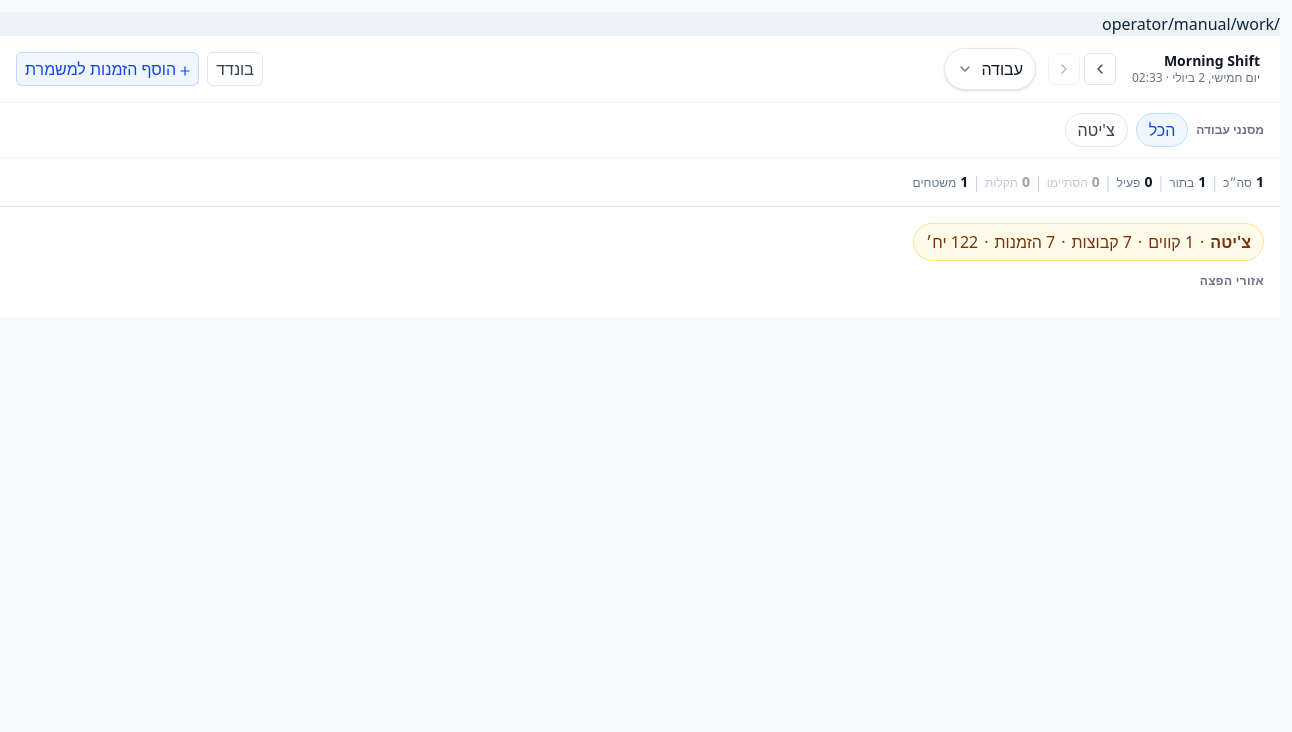
it: ManualOperatorPage URL sections › scopes Chita bucket products by sourceZone instead of the empty line scope
What coordinates should you click on to do the following:
click the button with test id "special-area-chip-צ'יטה"
I would click on:
 (1089, 242)
Its box is [913, 223, 1264, 261].
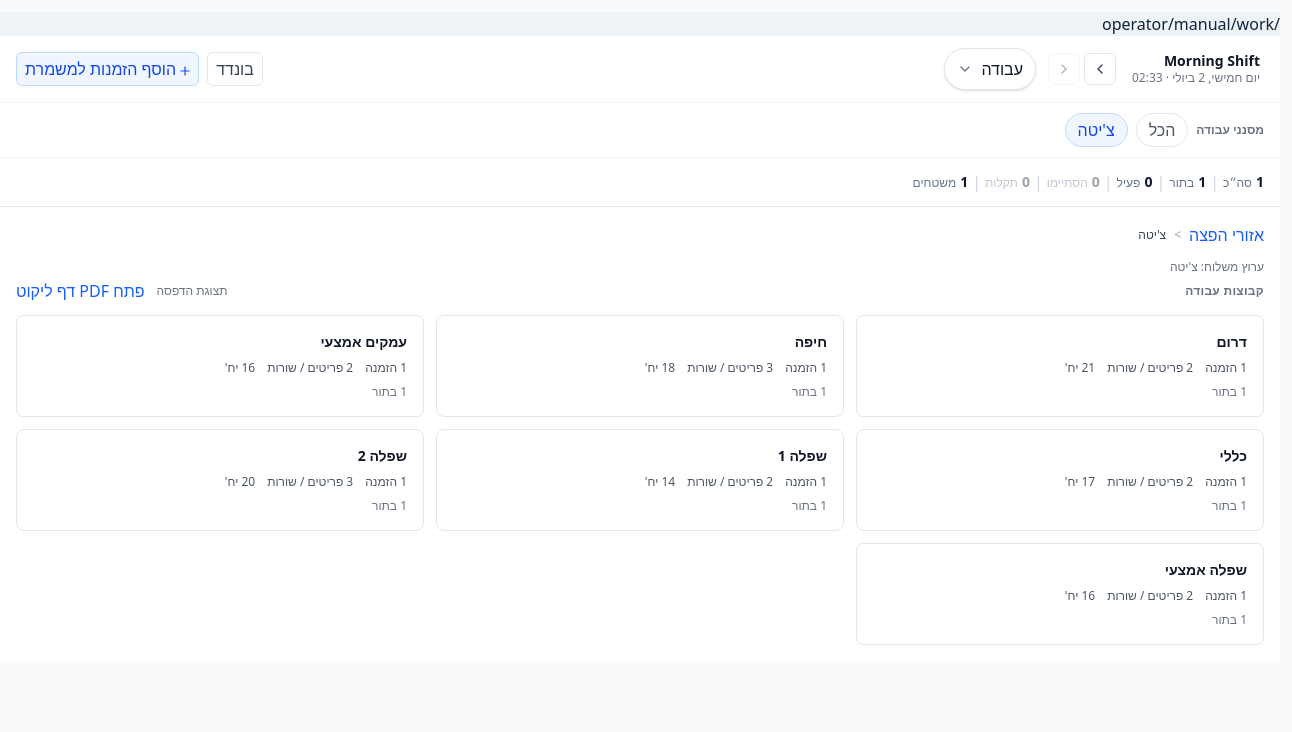
expect the button with test id "work-bucket-card-דרום" is shown: met
What coordinates should you click on to do the following:
click the button with test id "work-bucket-card-דרום"
I would click on:
 (1232, 342)
Its box is [857, 316, 1263, 416].
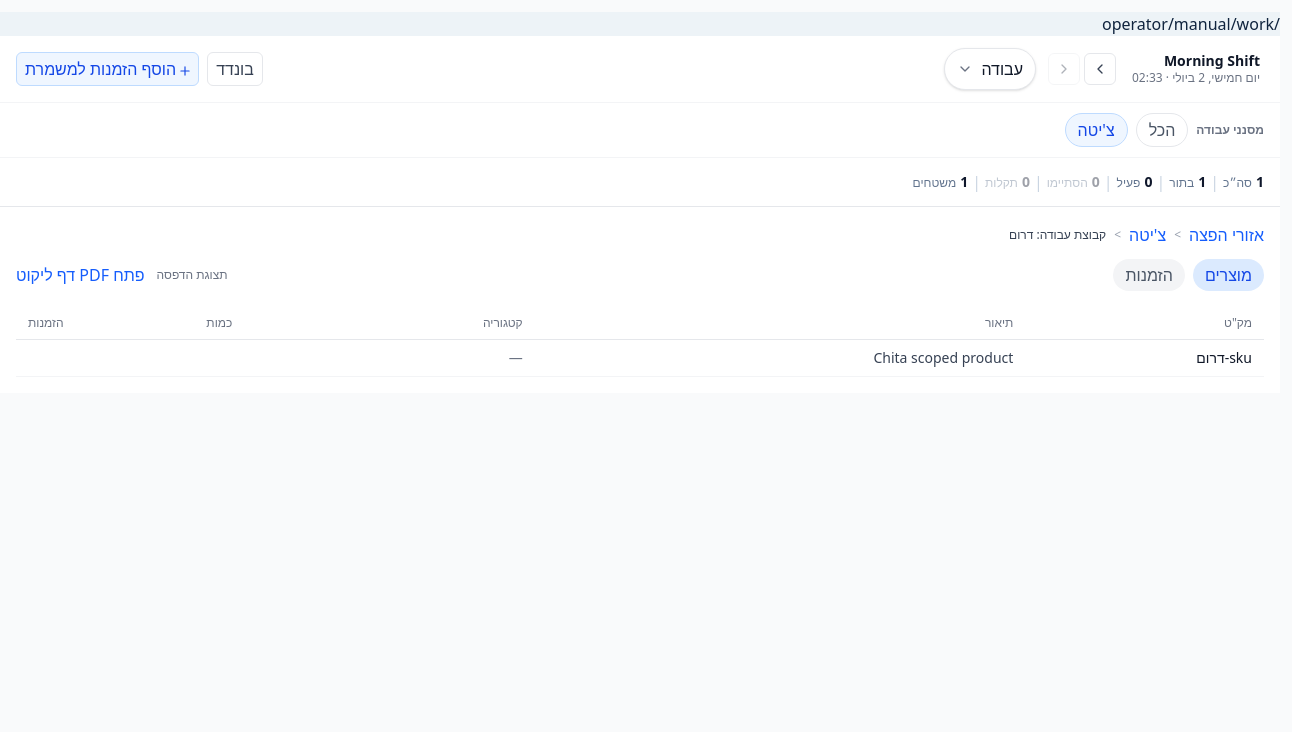
expect the row with test id "product-row-sku-דרום" is shown: met, box [16, 340, 1264, 376]
